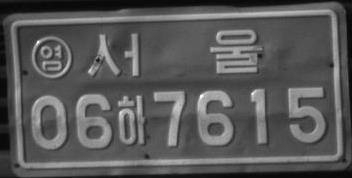0: (30, 94, 68, 151)
1: (243, 87, 280, 144)
5: (287, 85, 327, 143)
6: (74, 92, 113, 149), (196, 89, 234, 146)
7: (153, 89, 186, 147)
서울_D: (87, 27, 263, 77)
영: (31, 34, 72, 79)
하: (117, 94, 146, 145)
